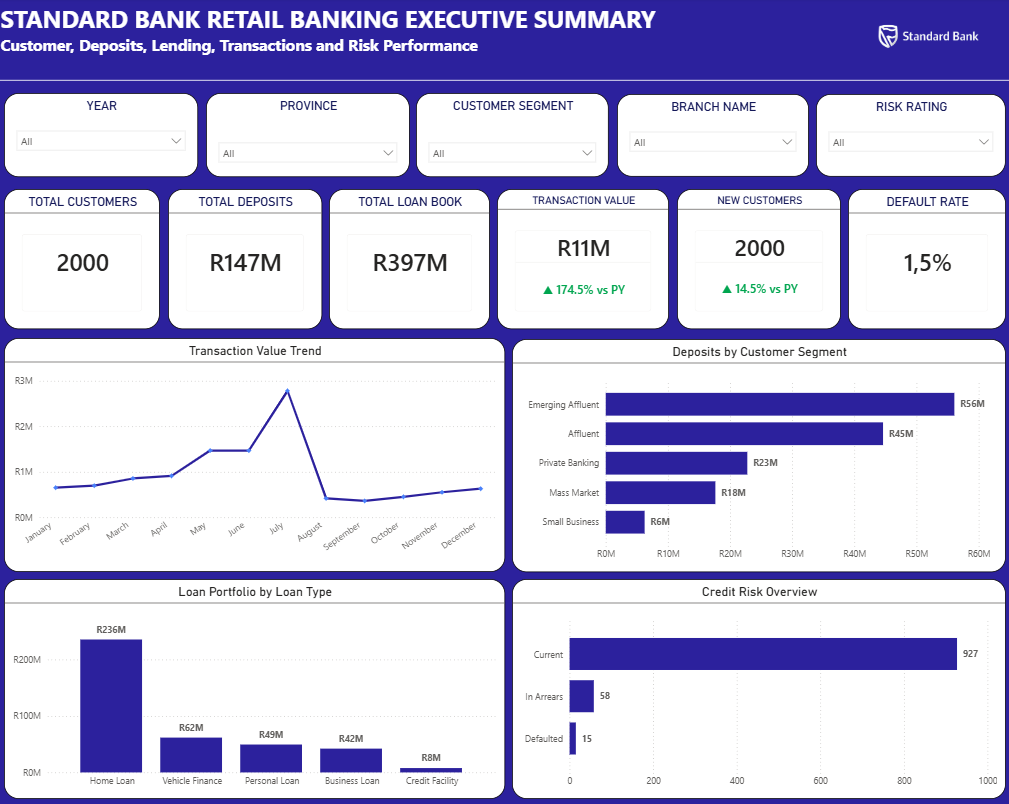

What the dashboard file says about the page in this screenshot:
{"tool":"powerbi","page":{"name":"ExecutiveSummary","canvas":[1380,1100],"ordinal":0},"visuals":[{"type":"textbox","box":[0,0,1380.5,112.2],"z":0},{"type":"cardVisual","title":"TOTAL CUSTOMERS","fields":{"Data":["Measures (2).Total Customers"]},"box":[10.8,258.7,211.3,189.7],"z":1000},{"type":"cardVisual","title":"TOTAL DEPOSITS","fields":{"Data":["Measures (2).Total Deposits"]},"box":[233,258.7,208.6,189.7],"z":2000},{"type":"cardVisual","title":"TOTAL LOAN BOOK","fields":{"Data":["Measures (2).Total Loan Book"]},"box":[451.1,258.7,218.1,189.7],"z":3000},{"type":"cardVisual","title":"TRANSACTION VALUE","fields":{"Data":["Measures (2).Transaction Value"]},"box":[678.7,258.7,233,189.7],"z":4000},{"type":"cardVisual","title":"DEFAULT RATE","fields":{"Data":["Measures (2).Default Rate"]},"box":[1154.2,258.7,214,189.7],"z":5000},{"type":"lineChart","title":"Transaction Value Trend","fields":{"Y":["Measures (2).Transaction Value"],"Category":["DimDate.Month"]},"box":[10.8,460.6,678.7,317],"z":6000},{"type":"clusteredBarChart","title":"Deposits by Customer Segment","fields":{"Y":["Measures (2).Total Deposits"],"Category":["Customers.CustomerSegment"]},"box":[699,461.9,669.2,315.6],"z":7000},{"type":"clusteredColumnChart","title":"Loan Portfolio by Loan Type","fields":{"Y":["Measures (2).Total Loan Book"],"Category":["Loans.LoanType"]},"box":[10.8,787.1,678.7,298],"z":8000},{"type":"clusteredBarChart","title":"Credit Risk Overview","fields":{"Y":["Measures (2).Total Loans"],"Category":["Loans.LoanStatus"]},"box":[699,787.1,669.2,298],"z":9000},{"type":"slicer","title":"YEAR","fields":{"Values":["DimDate.Year"]},"box":[10.8,128.7,262.8,113.8],"z":10000},{"type":"slicer","title":"PROVINCE","fields":{"Values":["Branches.Province"]},"box":[284.5,128.7,276.4,113.8],"z":11000},{"type":"slicer","title":"CUSTOMER SEGMENT","fields":{"Values":["Customers.CustomerSegment"]},"box":[569,128.7,261.5,113.8],"z":12000},{"type":"slicer","title":"BRANCH NAME","fields":{"Values":["Branches.BranchName"]},"box":[841.3,130,260.1,112.4],"z":13000},{"type":"slicer","title":"RISK RATING","fields":{"Values":["Customers.RiskRating"]},"box":[1110.9,130,257.2,112.2],"z":14000},{"type":"image","box":[1144.7,0,233,101.6],"z":15000},{"type":"cardVisual","title":"NEW CUSTOMERS","fields":{"Data":["Measures (2).New Customers"]},"box":[922.5,258.7,222.2,189.7],"z":16000}]}

Visuals, with their boxes in screenshot pixels (x1, y1, x2, y2), scaled from the page's 1380x1100 canvas onto the 1009x804 screenshot:
textbox: box=[0, 0, 1008, 82]
"TOTAL CUSTOMERS" cardVisual: box=[8, 189, 162, 328]
"TOTAL DEPOSITS" cardVisual: box=[170, 189, 323, 328]
"TOTAL LOAN BOOK" cardVisual: box=[330, 189, 489, 328]
"TRANSACTION VALUE" cardVisual: box=[496, 189, 667, 328]
"DEFAULT RATE" cardVisual: box=[844, 189, 1000, 328]
"Transaction Value Trend" lineChart: box=[8, 337, 504, 568]
"Deposits by Customer Segment" clusteredBarChart: box=[511, 338, 1000, 568]
"Loan Portfolio by Loan Type" clusteredColumnChart: box=[8, 575, 504, 793]
"Credit Risk Overview" clusteredBarChart: box=[511, 575, 1000, 793]
"YEAR" slicer: box=[8, 94, 200, 177]
"PROVINCE" slicer: box=[208, 94, 410, 177]
"CUSTOMER SEGMENT" slicer: box=[416, 94, 607, 177]
"BRANCH NAME" slicer: box=[615, 95, 805, 177]
"RISK RATING" slicer: box=[812, 95, 1000, 177]
image: box=[837, 0, 1007, 74]
"NEW CUSTOMERS" cardVisual: box=[674, 189, 837, 328]
